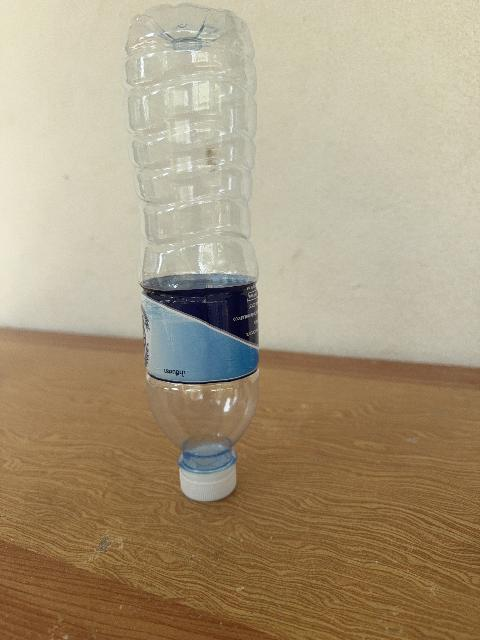bottle: (123, 4, 259, 500)
